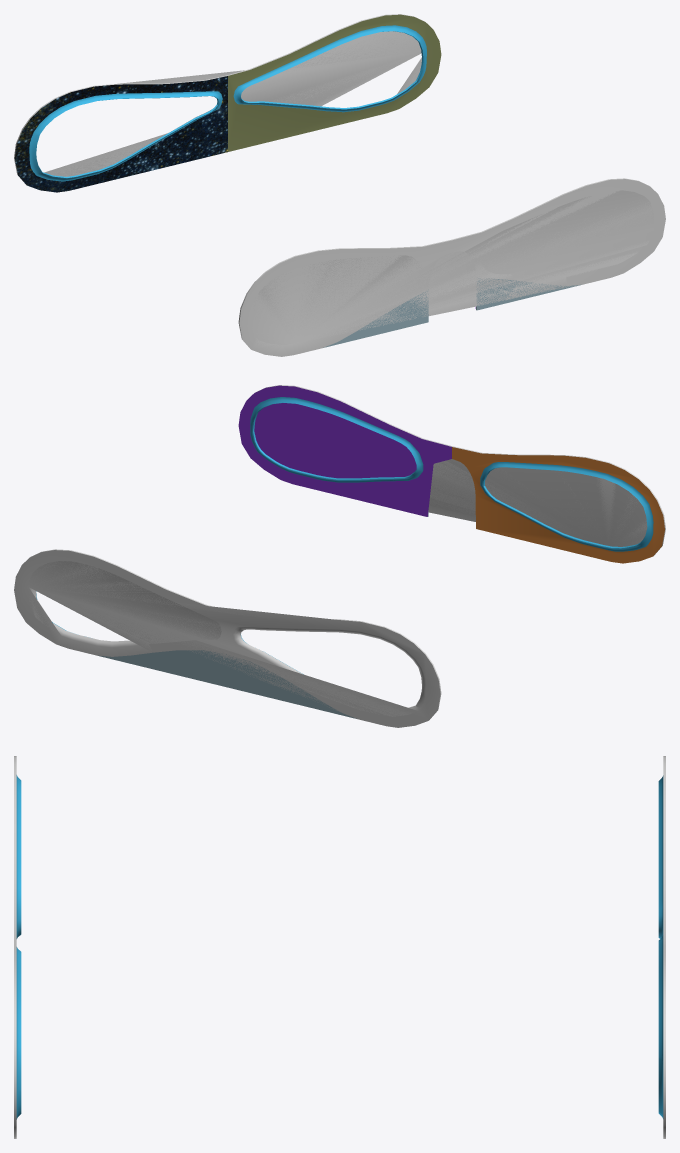
File: VR building Frotn Back Facade.fbx
3 views of the same model, one above another, from view 1: azimuth 30°, elevation 25°; view 2: azimuth 150°, elevation 25°; view 3: azimuth 270°, elevation 25° (orthographic). The views are drawn at different scales.
Parts seen in each view (by area): view 1: Front Back facade; view 2: Front Back facade; view 3: Front Back facade.
Boxes of the visible parts, x1,y1,x2,y2 form: Front Back facade: [14, 14, 665, 356]; Front Back facade: [14, 385, 665, 727]; Front Back facade: [14, 756, 665, 1138].
Size of the model in its own units: 2841 by 625 by 2600.
